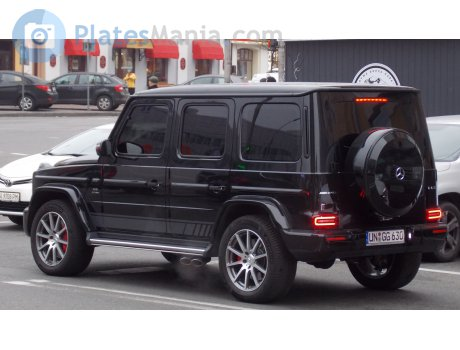License Plates: (366, 228, 401, 239)
